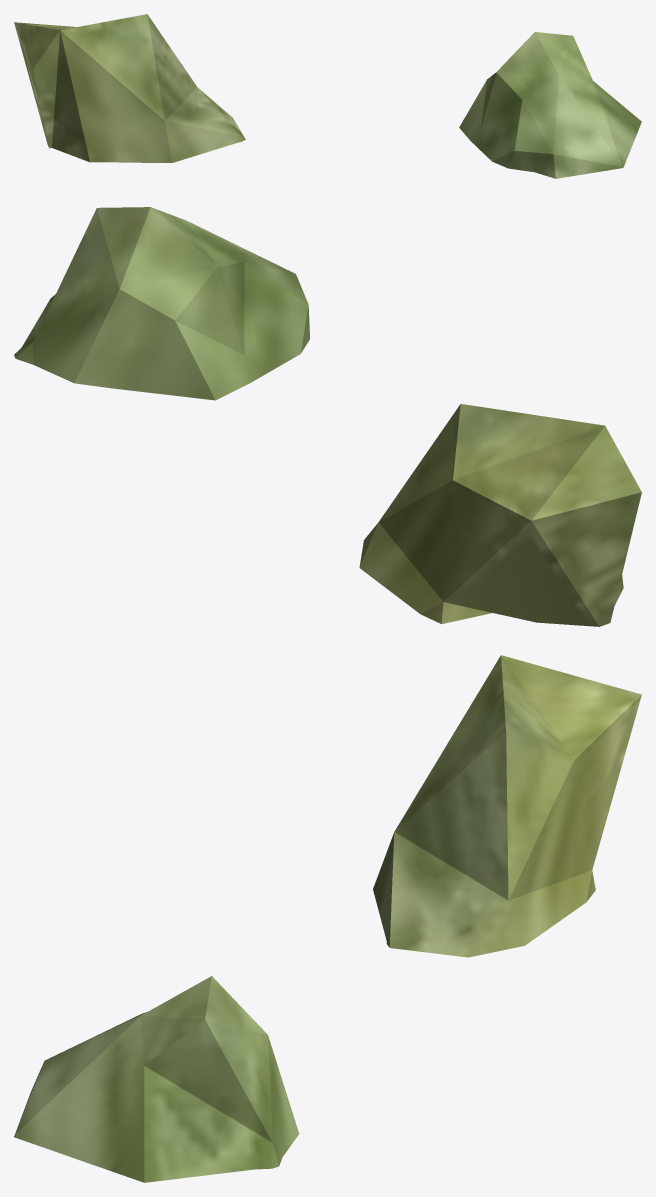
3 views of the same model, one above another, from view 1: azimuth 30°, elevation 25°; view 2: azimuth 150°, elevation 25°; view 3: azimuth 270°, elevation 25° (orthographic). The views are drawn at different scales.
Bounding box in the file's own units: 1.08 × 0.2513 × 0.7863.
1 material, 1 textured.
